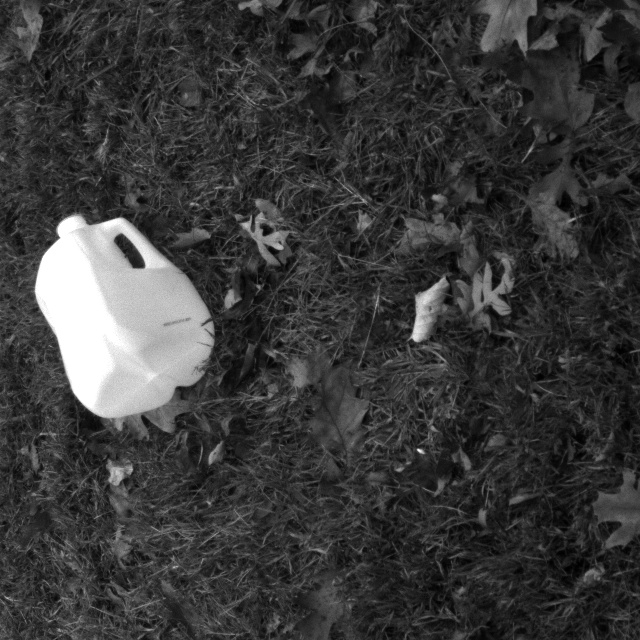can: (27, 202, 232, 421)
